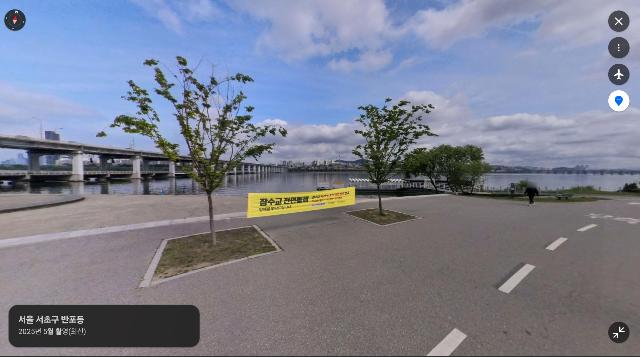other: (96, 55, 289, 246), (351, 97, 439, 217), (430, 143, 489, 196), (401, 144, 455, 194)
